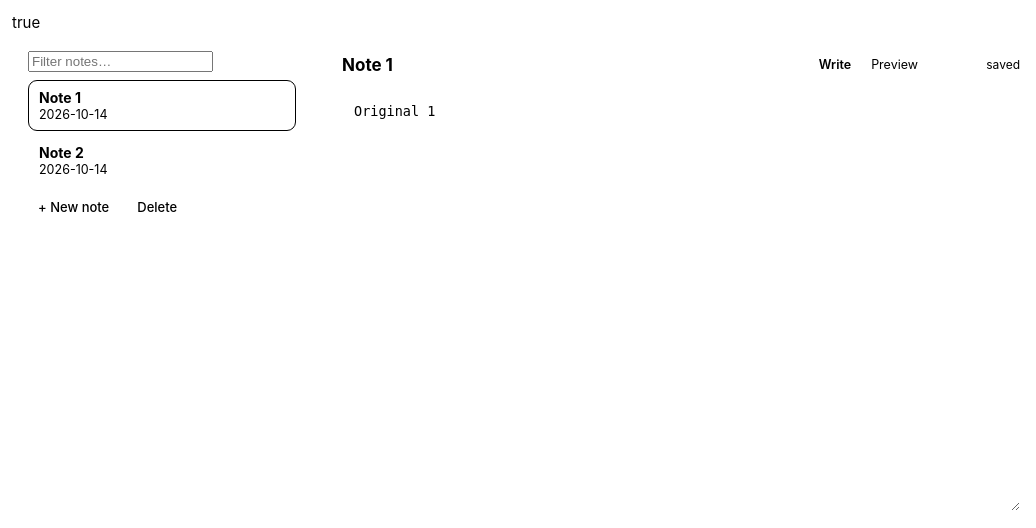
Test case: Codex architect acceptance: durable note editing › flushes the latest draft on note switch before debounce expiry, under StrictMode
Replace the text in the text box named "Note body (Markdown)" with "Quick navigation draft" at (681, 300), box [342,88,1020,511]
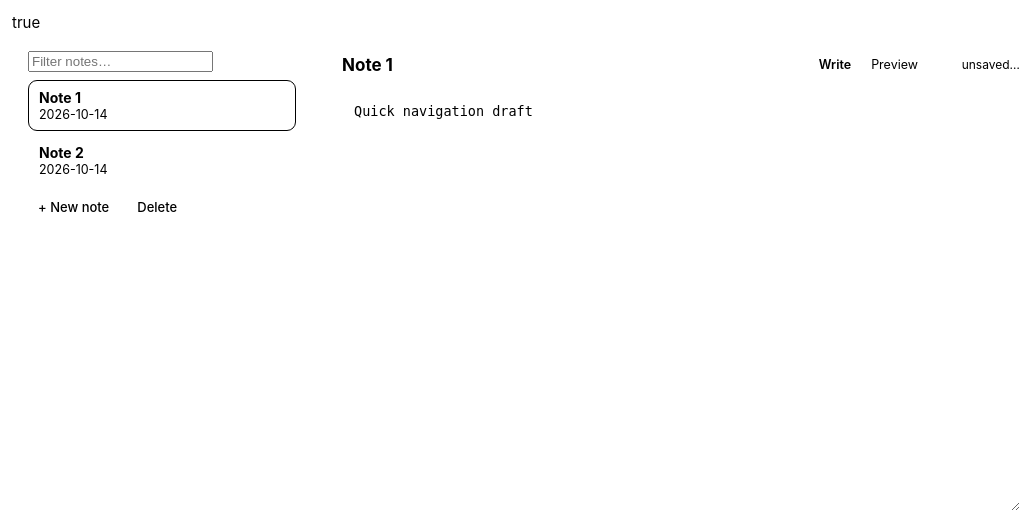
Click the button "Note 2 2026-10-14" at (61, 152), box [28,134,296,186]
Wait 1400 ms
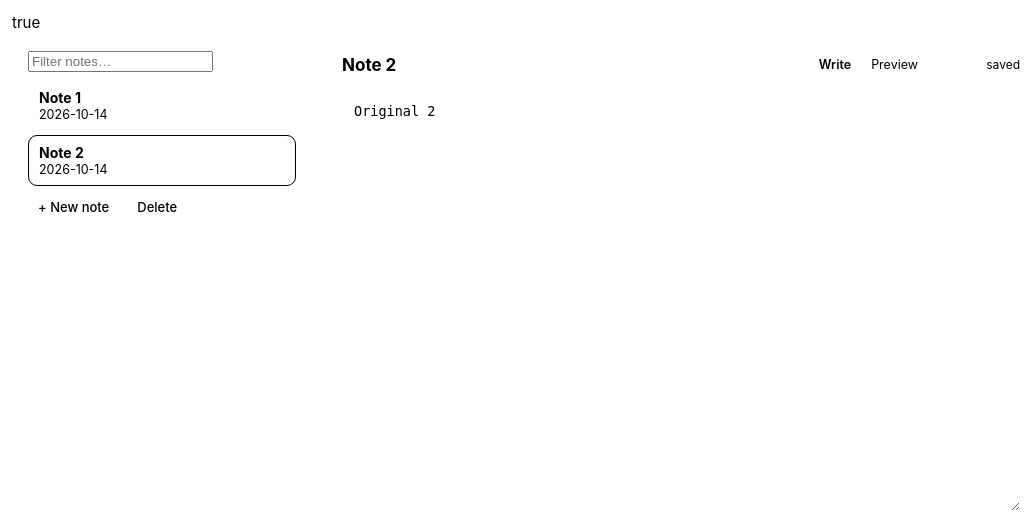
Expected: the text box named "Note body (Markdown)" holds "Original 2", [342,88,1020,511]
